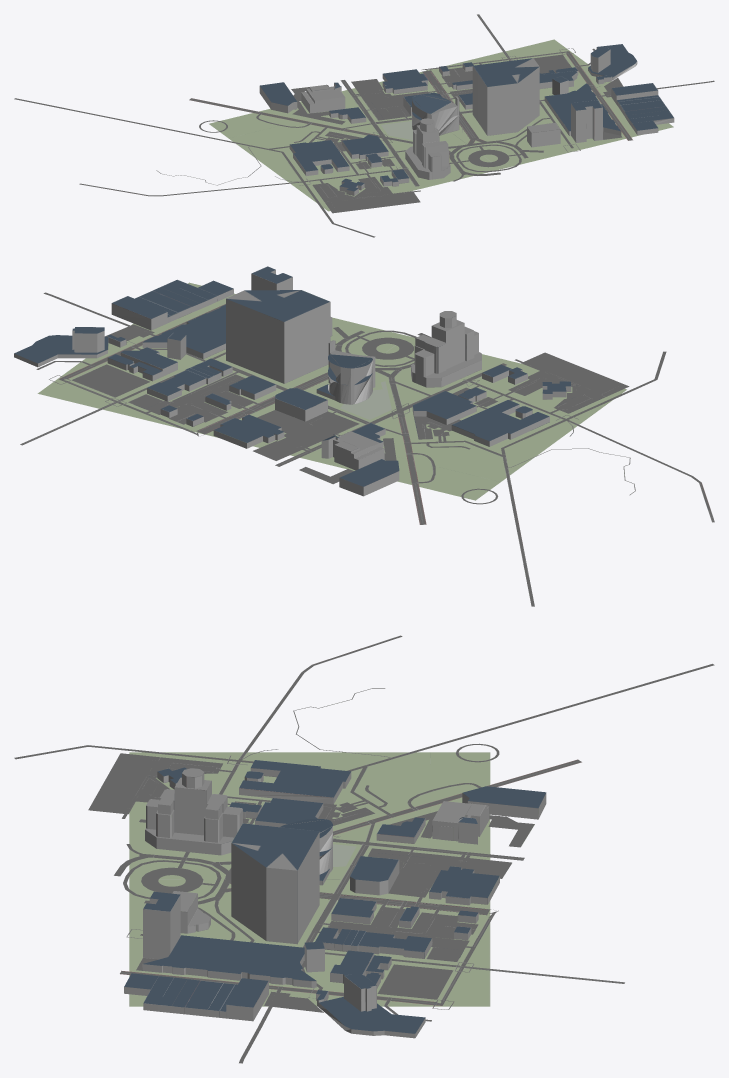
File: map.obj
3 renders of one model, top to bottom at view 1: azimuth 30°, elevation 25°; view 2: azimuth 150°, elevation 25°; view 3: azimuth 270°, elevation 25°, orthographic. The views are drawn at different scales.
Visible parts, largest first — view 1: Road226; view 2: Road226; view 3: Road226.
Part boxes in pixels (bbox=[...]): Road226: bbox=[14, 14, 714, 237]; Road226: bbox=[14, 266, 714, 606]; Road226: bbox=[14, 635, 714, 1063].
Bounding box in the file's own units: 1011 × 84 × 699.
1 material, 1 textured.
